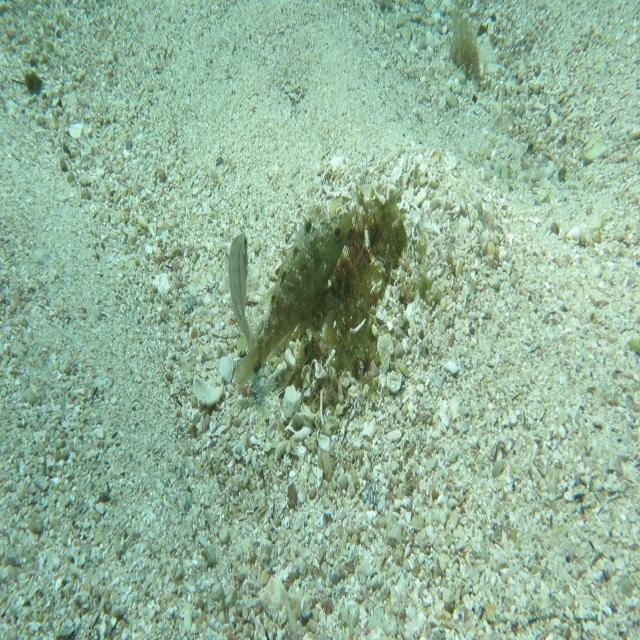FAN: (232, 211, 352, 387)
core_nest: (338, 206, 397, 264)
female: (228, 230, 260, 364)
nest: (285, 175, 430, 416)
